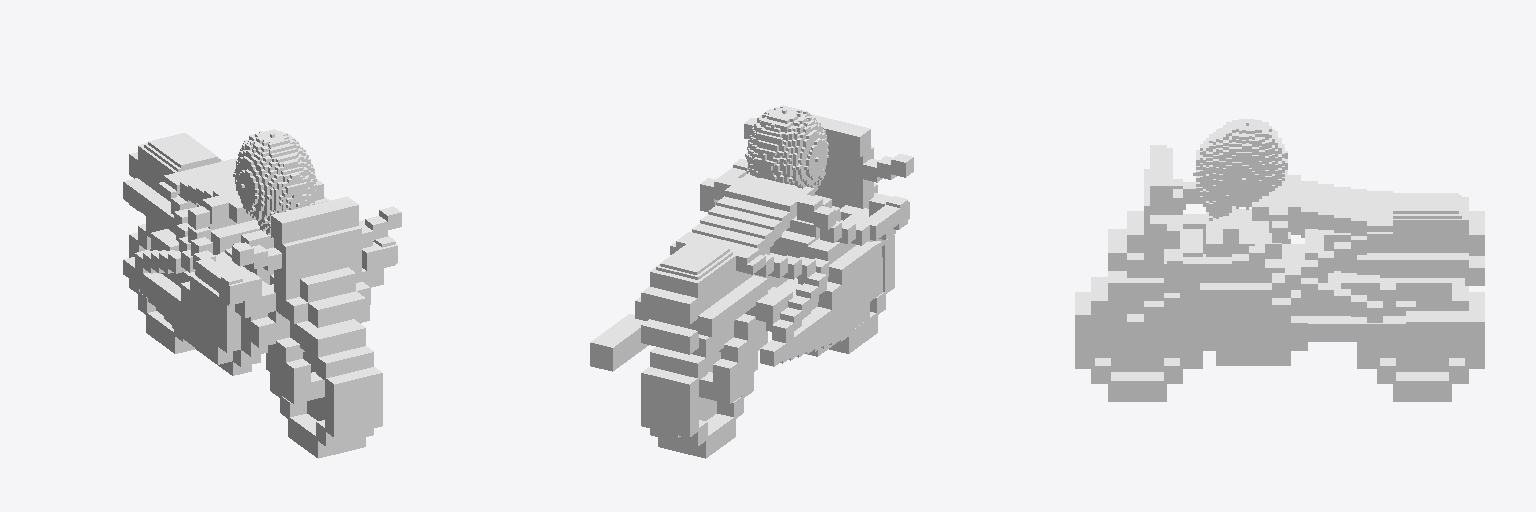
The model's file is Motor_ride_orange+red+clothes2.obj.
3 views of the same model, side by side, from view 1: azimuth 30°, elevation 25°; view 2: azimuth 150°, elevation 25°; view 3: azimuth 270°, elevation 25° (orthographic).
Visible parts, largest first — view 1: Motor_ride_orange+red+clothes2; view 2: Motor_ride_orange+red+clothes2; view 3: Motor_ride_orange+red+clothes2.
Boxes of the visible parts, <box> form: Motor_ride_orange+red+clothes2: <box>123,129,401,458</box>; Motor_ride_orange+red+clothes2: <box>590,105,913,458</box>; Motor_ride_orange+red+clothes2: <box>1075,119,1484,401</box>.
Size of the model in its own units: 5.9 by 9 by 12.5.